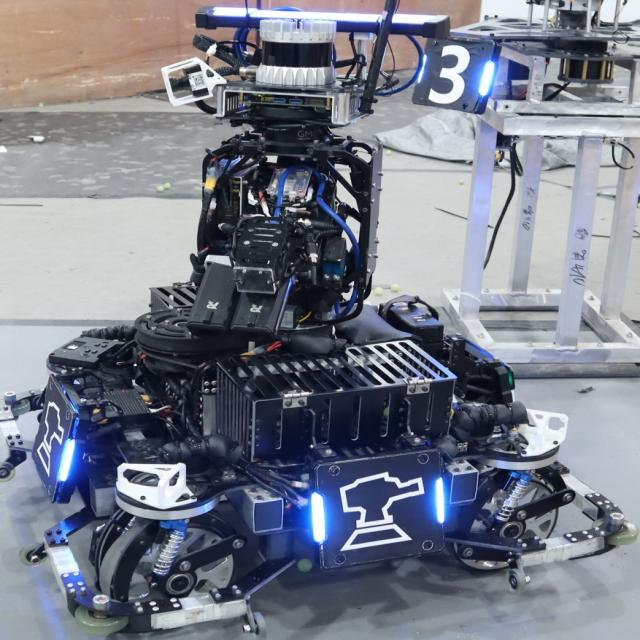B3: (413, 42, 490, 106)
Bs: (312, 471, 448, 557), (32, 392, 85, 485)
